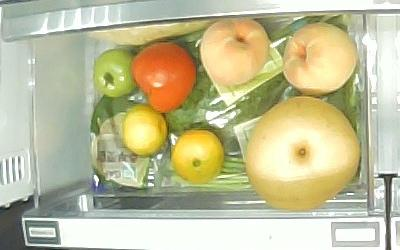peach: (283, 21, 358, 96), (200, 18, 270, 85)
pear: (244, 97, 361, 210)
tangerine: (173, 129, 225, 184), (122, 105, 167, 157)
tomato: (133, 42, 197, 114), (92, 47, 139, 99)
